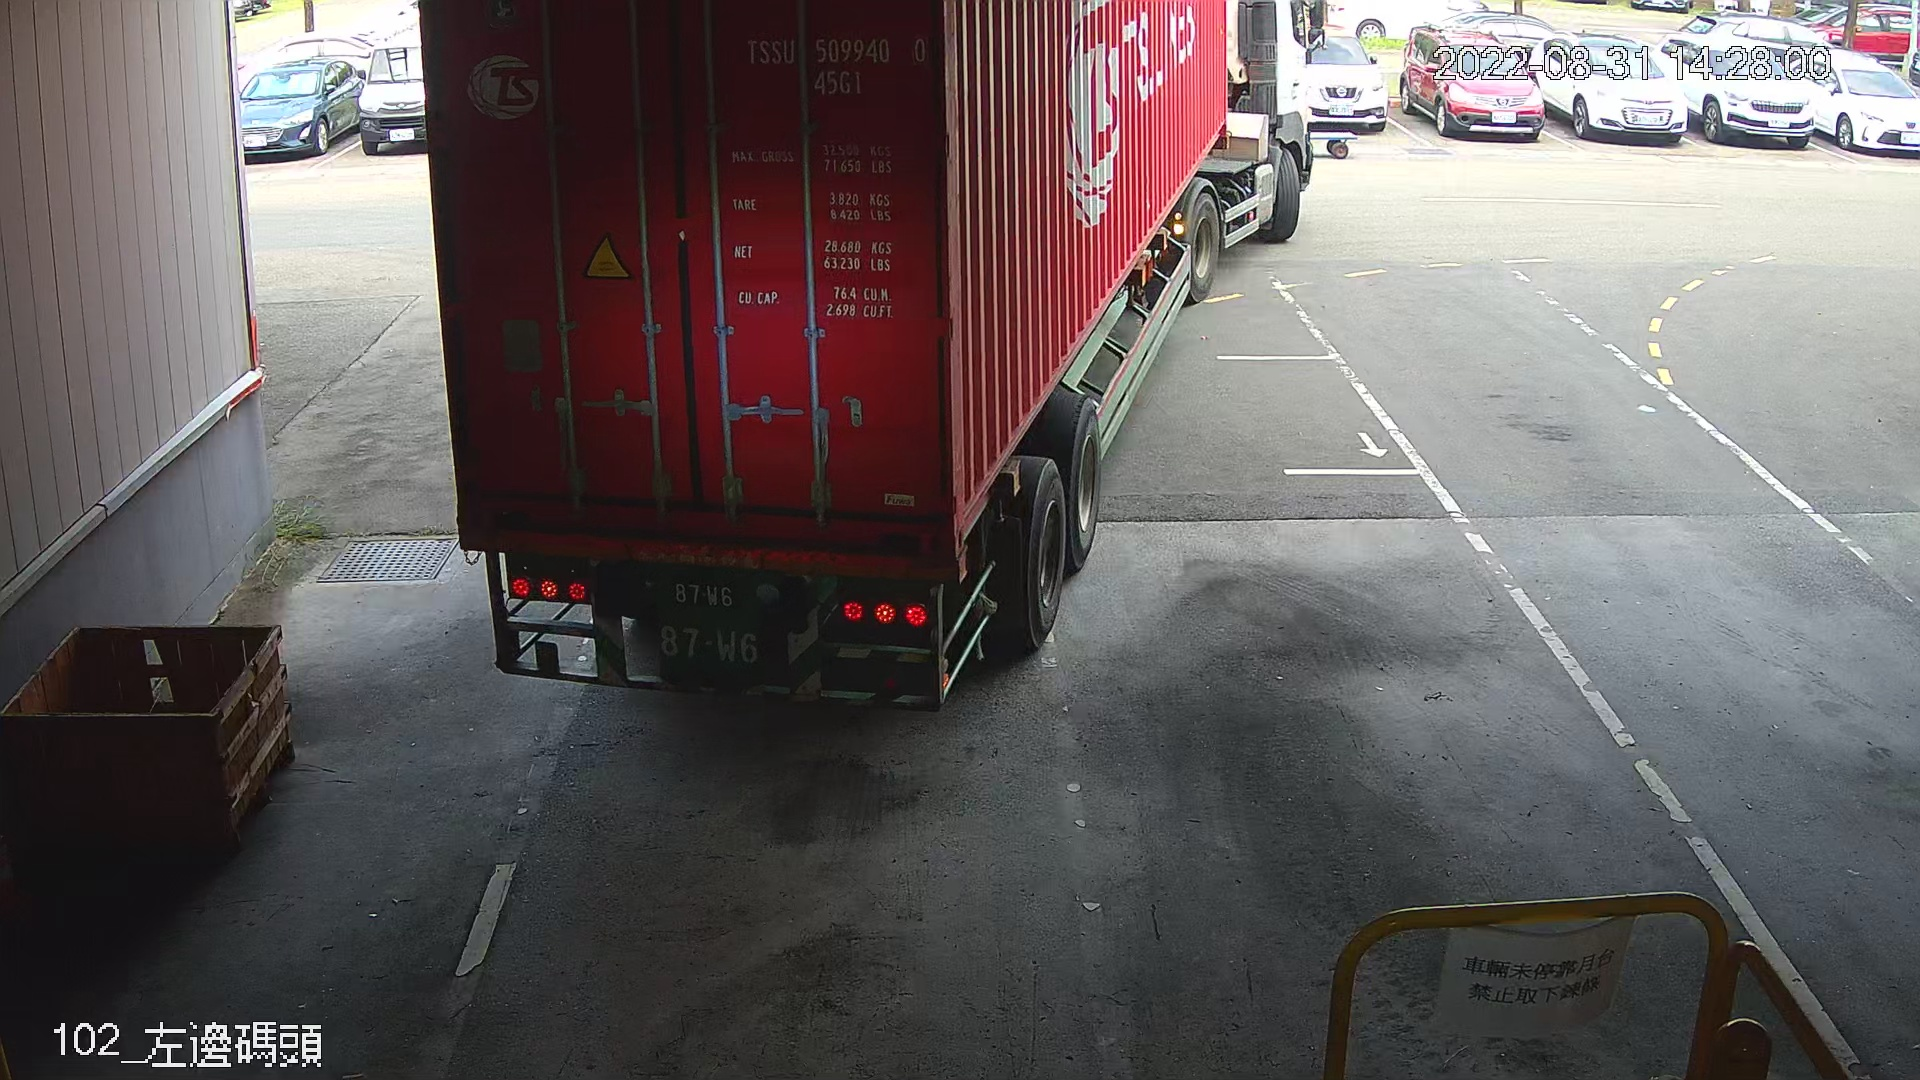container: (728, 22, 934, 102)
